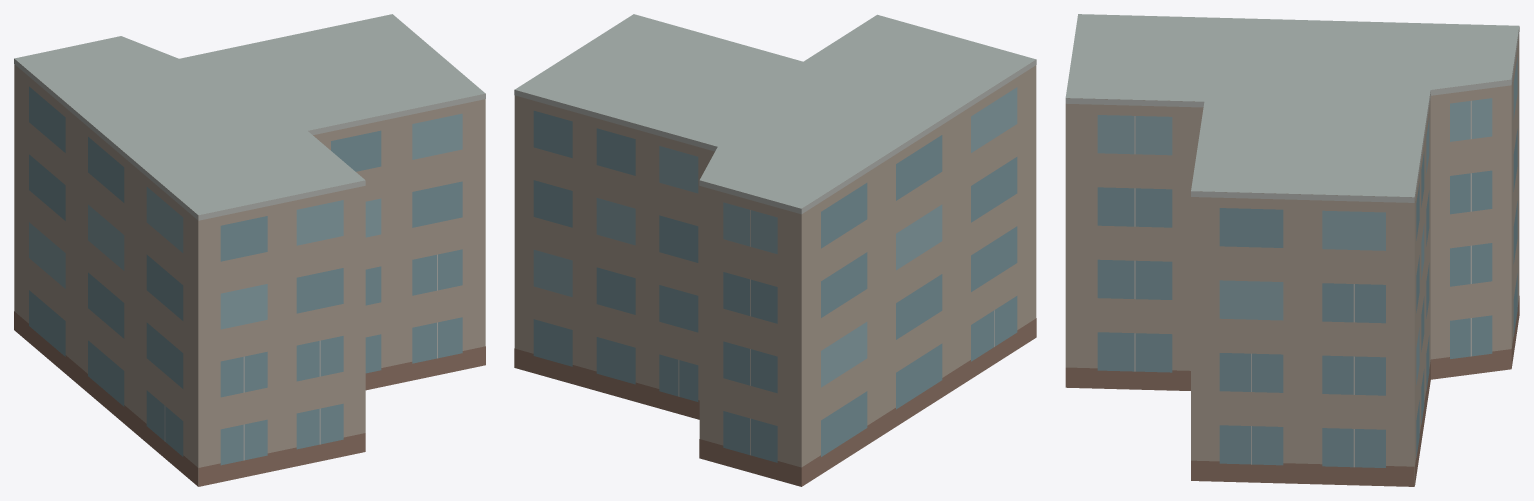
File: residential-06589ca1-74dc-4872-889e-5d007ebb2da1.glb
3 renders of one model, left to right at view 1: azimuth 30°, elevation 25°; view 2: azimuth 150°, elevation 25°; view 3: azimuth 270°, elevation 25°, orthographic. The views are drawn at different scales.
Parts seen in each view (by area): view 1: residential-06589ca1-74dc-4872-889e-5d007ebb2da1.tmp; view 2: residential-06589ca1-74dc-4872-889e-5d007ebb2da1.tmp; view 3: residential-06589ca1-74dc-4872-889e-5d007ebb2da1.tmp.
Boxes of the visible parts, x1,y1,x2,y2 form: residential-06589ca1-74dc-4872-889e-5d007ebb2da1.tmp: [14, 14, 485, 486]; residential-06589ca1-74dc-4872-889e-5d007ebb2da1.tmp: [514, 14, 1036, 486]; residential-06589ca1-74dc-4872-889e-5d007ebb2da1.tmp: [1065, 14, 1519, 486].
Size of the model in its own units: 16.55 by 12.2 by 17.33.
